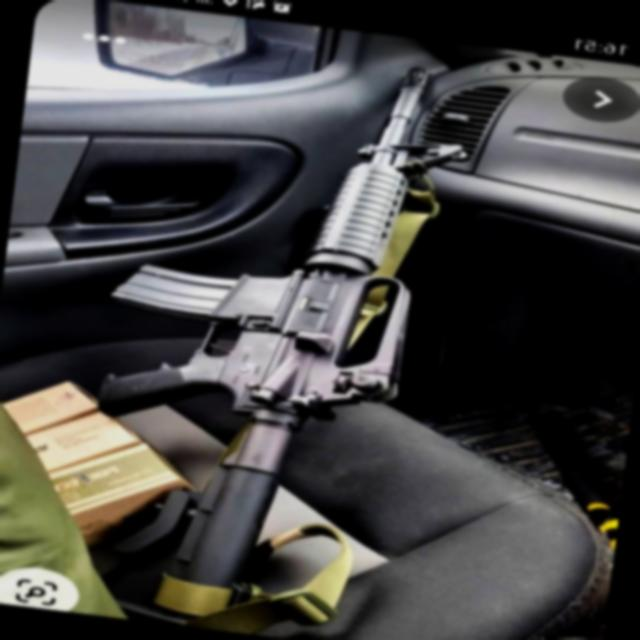m16: (74, 91, 547, 640)
